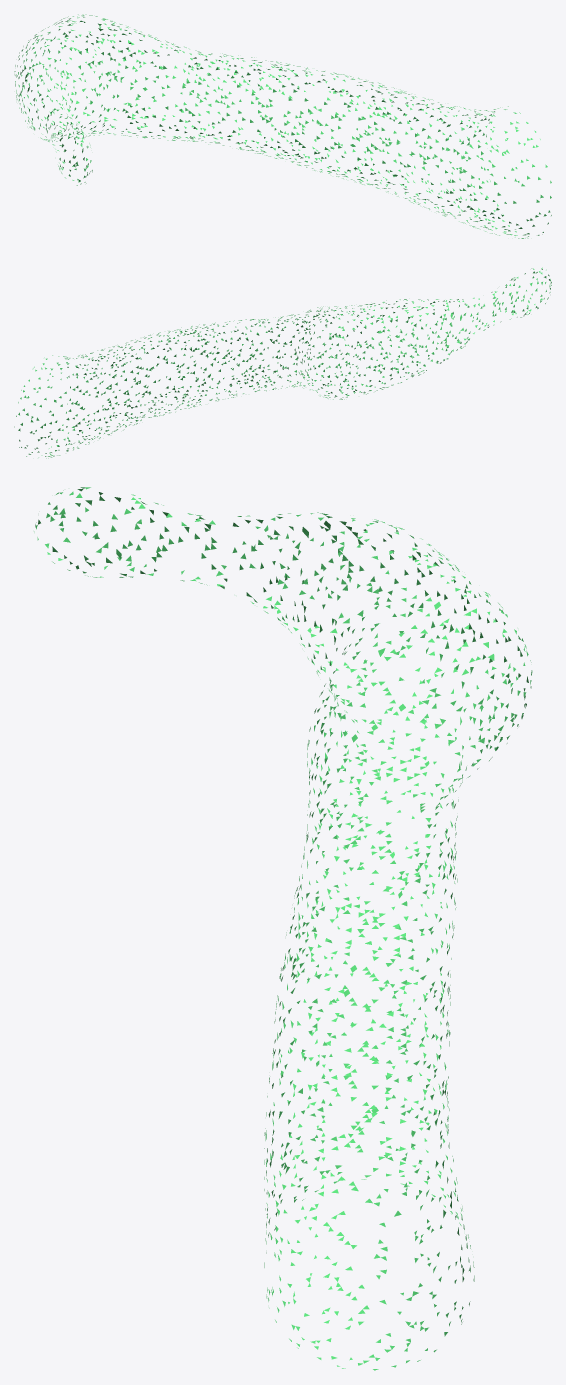
File: morph_020.glb
3 views of the same model, one above another, from view 1: azimuth 30°, elevation 25°; view 2: azimuth 150°, elevation 25°; view 3: azimuth 270°, elevation 25° (orthographic). The views are drawn at different scales.
Bounding box in the file's own units: 107 × 57.33 × 53.41.
